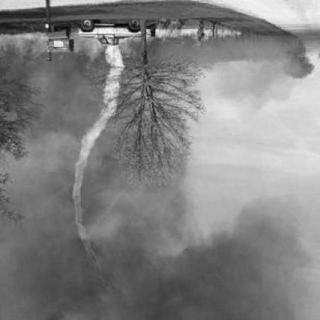Fire: (1, 26, 239, 66)
